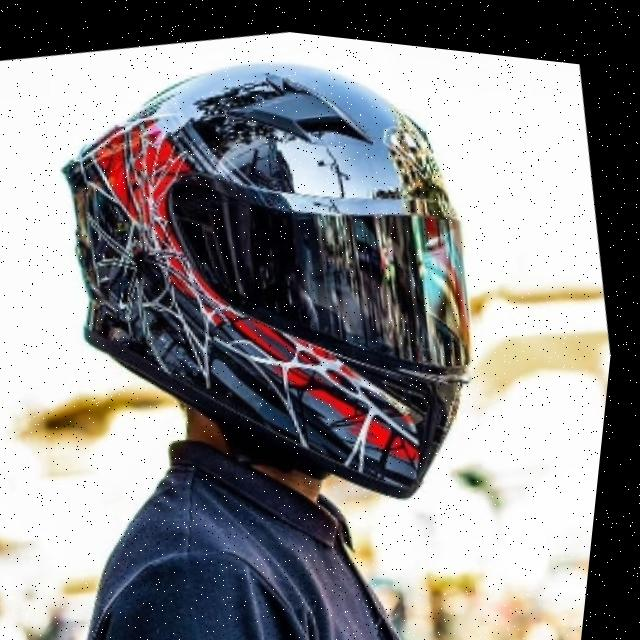helmet: (5, 4, 545, 573)
